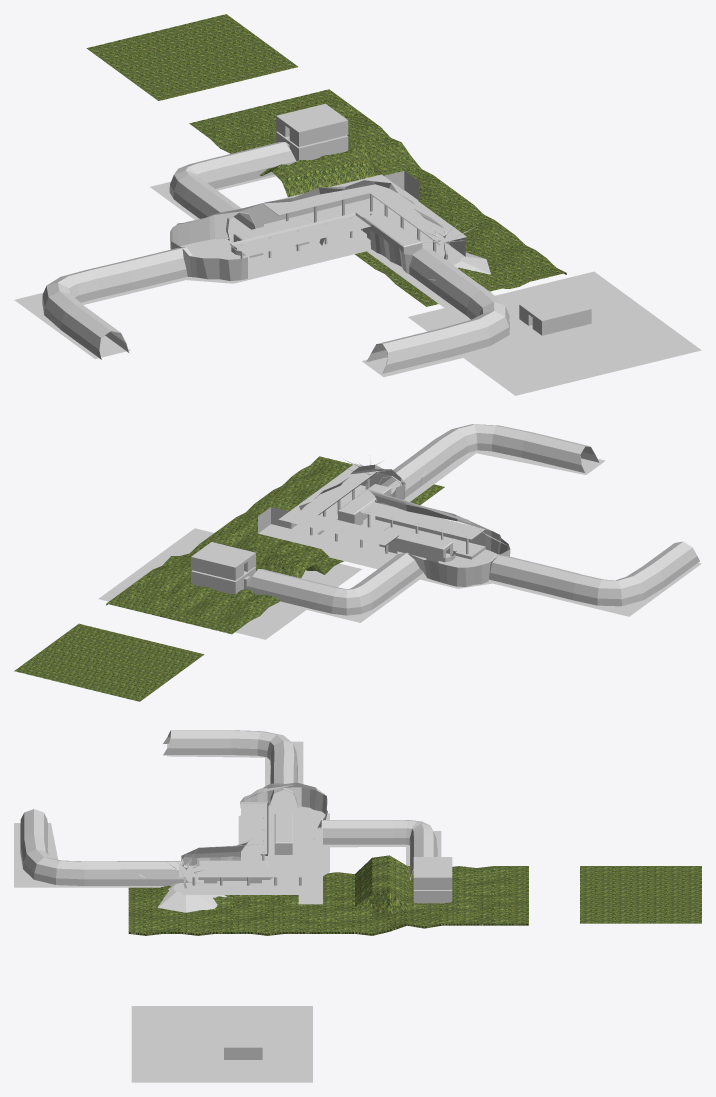
The model's file is Map_Cliffside.glb.
The picture shows the model from 3 angles, top to bottom: view 1: azimuth 30°, elevation 25°; view 2: azimuth 150°, elevation 25°; view 3: azimuth 270°, elevation 25°; orthographic projection. The views are drawn at different scales.
Visible parts, largest first — view 1: Train Station, Gournd, Plane, Church, Starting hill; view 2: Train Station, Gournd, Plane, Church; view 3: Train Station, Gournd, Plane, Church, Starting hill.
Part boxes in pixels (x1=…): Train Station: x1=14, y1=142, x2=540, y2=377; Gournd: x1=86, y1=14, x2=566, y2=306; Plane: x1=408, y1=271, x2=701, y2=395; Church: x1=276, y1=103, x2=348, y2=160; Starting hill: x1=438, y1=252, x2=490, y2=274; Train Station: x1=246, y1=424, x2=701, y2=622; Gournd: x1=14, y1=456, x2=444, y2=701; Plane: x1=98, y1=528, x2=361, y2=639; Church: x1=191, y1=542, x2=255, y2=594; Train Station: x1=14, y1=730, x2=441, y2=904; Gournd: x1=128, y1=855, x2=701, y2=935; Plane: x1=131, y1=1006, x2=312, y2=1082; Church: x1=413, y1=857, x2=452, y2=903; Starting hill: x1=157, y1=881, x2=226, y2=912.
Size of the model in its own units: 126 by 32.99 by 152.
3 materials, 1 textured.
